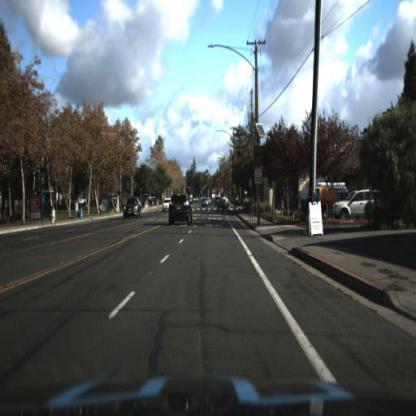car: (331, 180, 381, 222), (164, 188, 198, 235), (169, 194, 194, 228), (122, 194, 146, 222), (218, 199, 228, 213)
truck: (302, 184, 351, 216)
